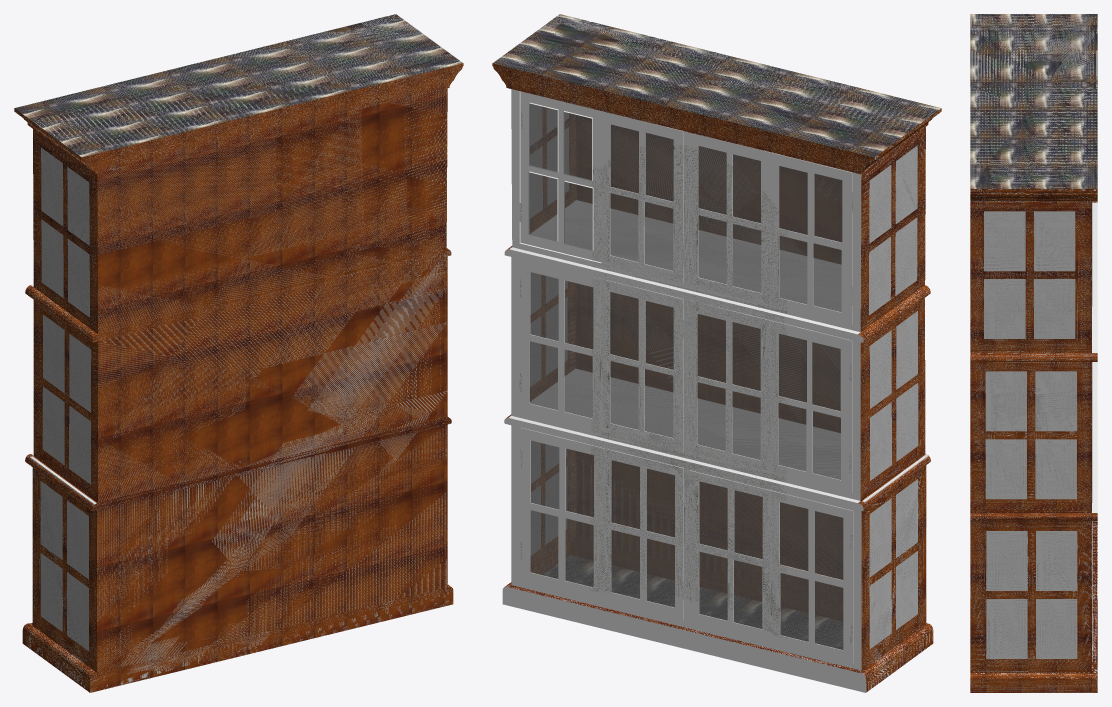
The picture shows the model from 3 angles, left to right: view 1: azimuth 30°, elevation 25°; view 2: azimuth 150°, elevation 25°; view 3: azimuth 270°, elevation 25°; orthographic projection. The views are drawn at different scales.
Visible parts, largest first — view 1: mesh1_mesh1-geometry; view 2: mesh1_mesh1-geometry; view 3: mesh1_mesh1-geometry.
Boxes of the visible parts, x1,y1,x2,y2 form: mesh1_mesh1-geometry: (14, 14, 463, 692); mesh1_mesh1-geometry: (492, 14, 941, 692); mesh1_mesh1-geometry: (970, 14, 1097, 692).
Bounding box in the file's own units: 0.5863 × 0.7901 × 0.179.
